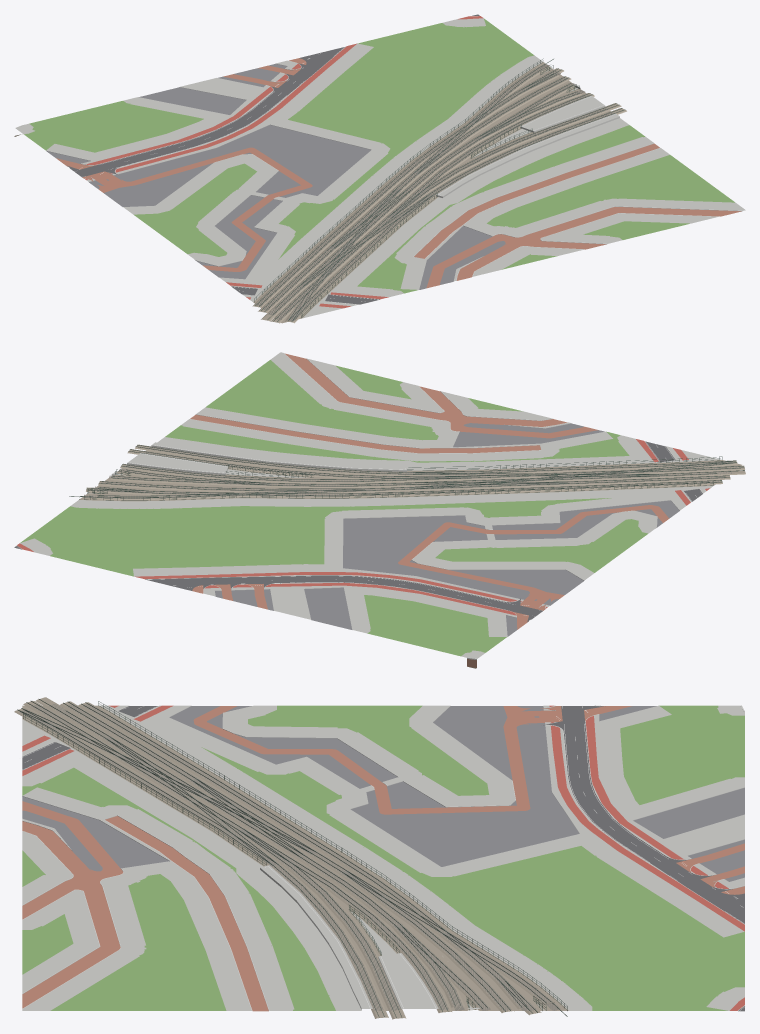
Rendered from ground_5_6.glb.
3 views of the same model, one above another, from view 1: azimuth 30°, elevation 25°; view 2: azimuth 150°, elevation 25°; view 3: azimuth 270°, elevation 25° (orthographic). The views are drawn at different scales.
Parts seen in each view (by area): view 1: ground_5_6; view 2: ground_5_6; view 3: ground_5_6.
Part boxes in pixels (box(x1,y1,x2,y2)): ground_5_6: box(14, 14, 745, 323); ground_5_6: box(14, 352, 745, 668); ground_5_6: box(14, 697, 745, 1019).
Bounding box in the file's own units: 211 × 5.17 × 203.
